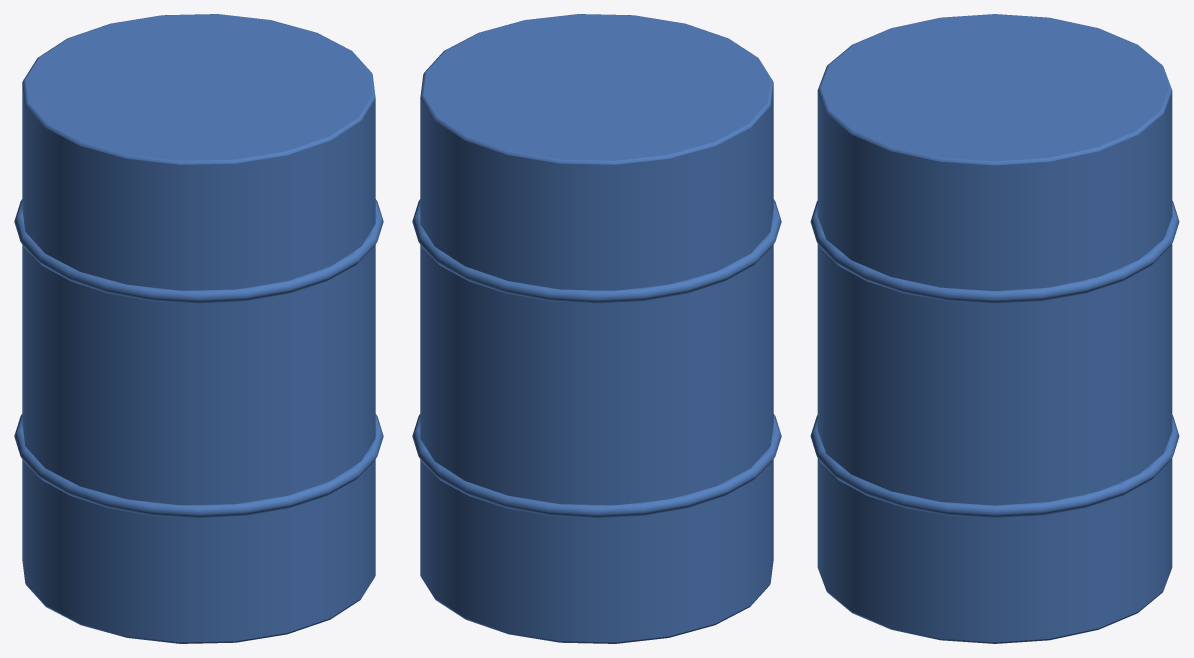
File: barrel.glb
3 renders of one model, left to right at view 1: azimuth 30°, elevation 25°; view 2: azimuth 150°, elevation 25°; view 3: azimuth 270°, elevation 25°, orthographic.
Parts seen in each view (by area): view 1: barrel; view 2: barrel; view 3: barrel.
Part boxes in pixels (bbox=[...]): barrel: bbox=[14, 14, 383, 643]; barrel: bbox=[412, 14, 781, 643]; barrel: bbox=[810, 14, 1179, 643].
Size of the model in its own units: 0.624 by 0.9 by 0.624.
